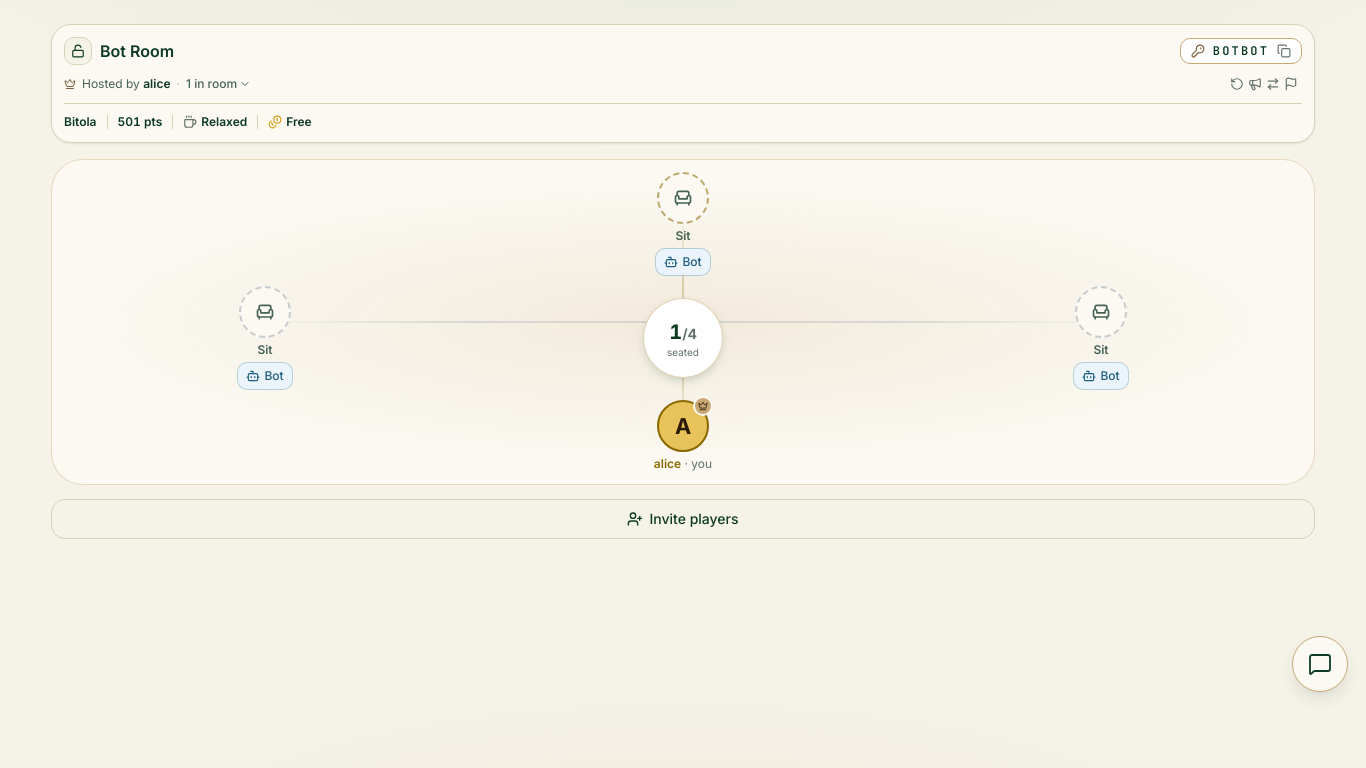
it: RoomPage bot seating › owner adds a bot on a phone from the seat's own Bot button
Expected: the button with test id "add-bot-seat-1" is shown, [1073,362,1129,390]
Expected: the button with test id "add-bot-seat-3" is shown, [237,362,293,390]
Click the button with test id "add-bot-seat-2" at coordinates (683, 262), box [655,248,711,276]
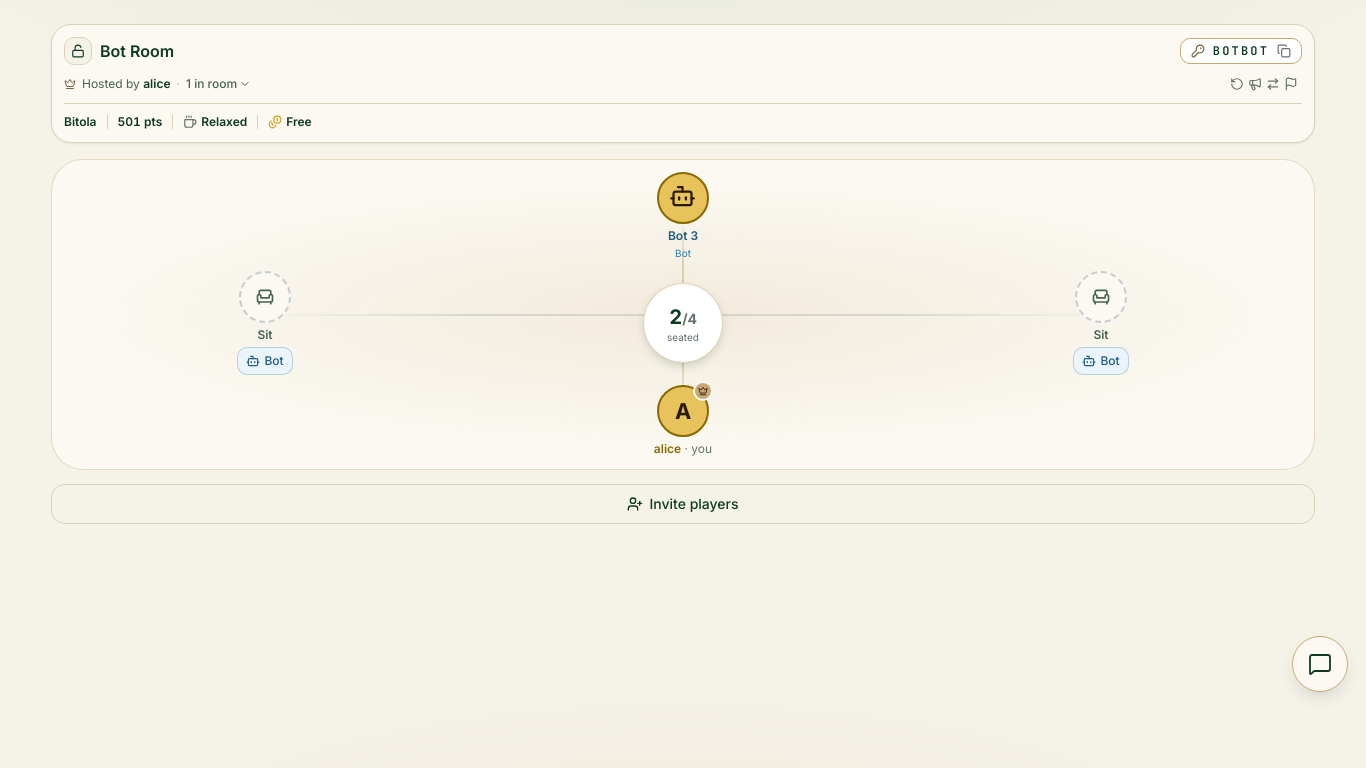
Expected: the text with test id "bot-name-2" reads "Bot 3", [668,228,698,243]
